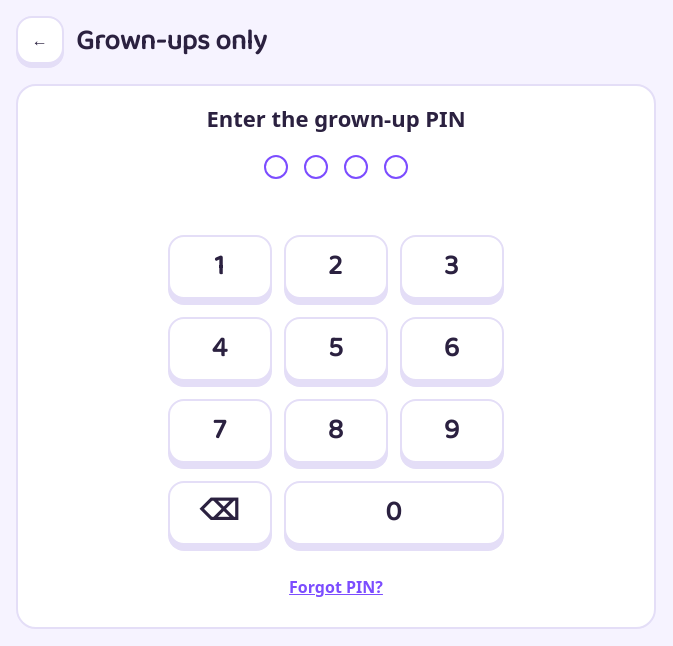
grown-ups PIN gate (spec 011 AC2–AC5) › the dots fill as digits are typed, and Delete removes one
expect the heading "Enter the grown-up PIN" is shown: met, box [206,102,466,135]
Click the button "2".
click(336, 267)  # box [284,235,388,299]
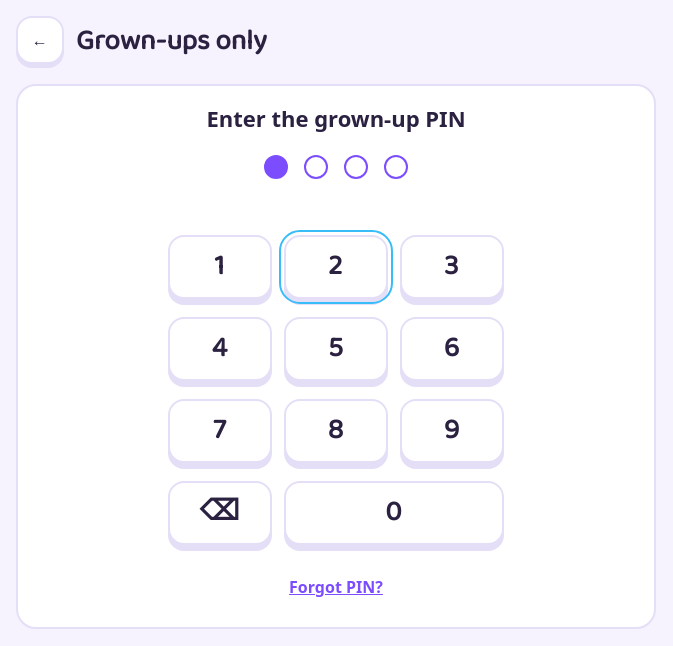
Click the button "4".
click(220, 349)  # box [168,317,272,381]
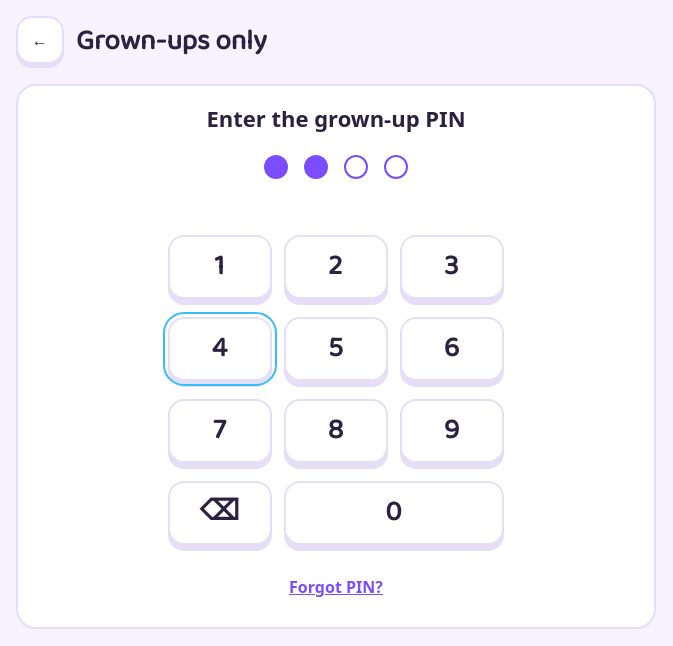
expect the picture named "2 of 4 digits entered" is shown: met, box [256,147,416,187]
Click the button named "Delete".
click(220, 513)  # box [168,481,272,545]
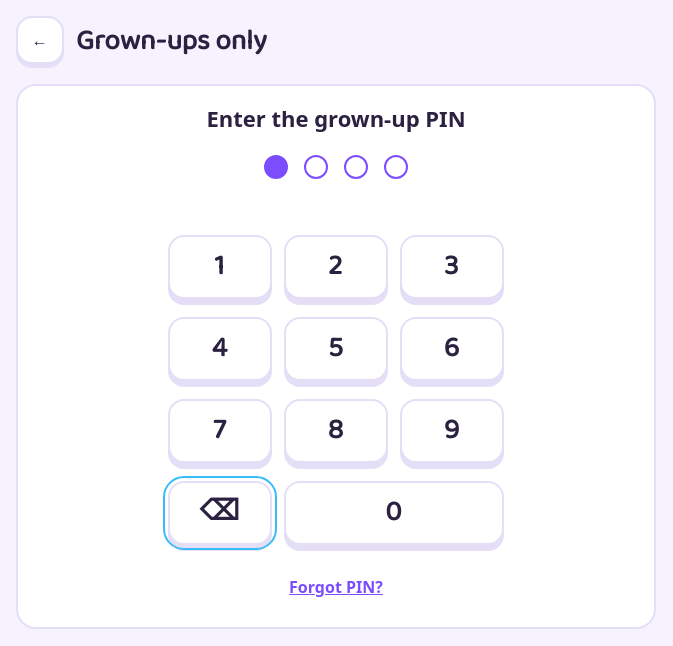
expect the picture named "1 of 4 digits entered" is shown: met, box [256,147,416,187]
